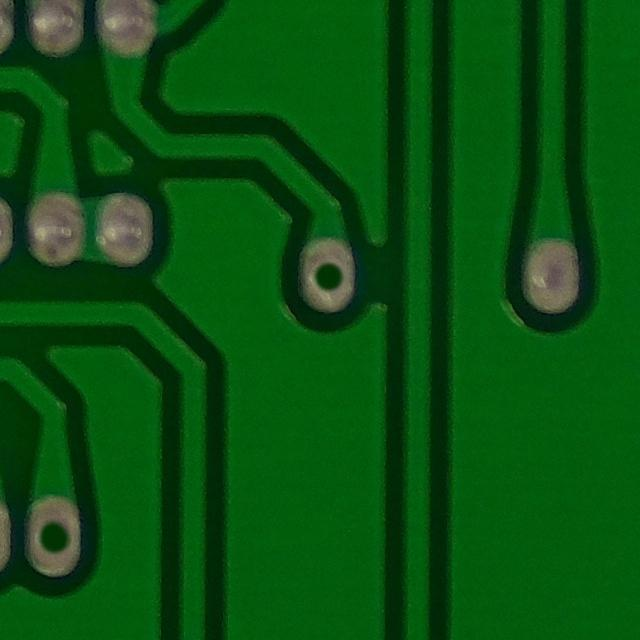missing_hole: (10, 489, 101, 587), (281, 237, 377, 315)
